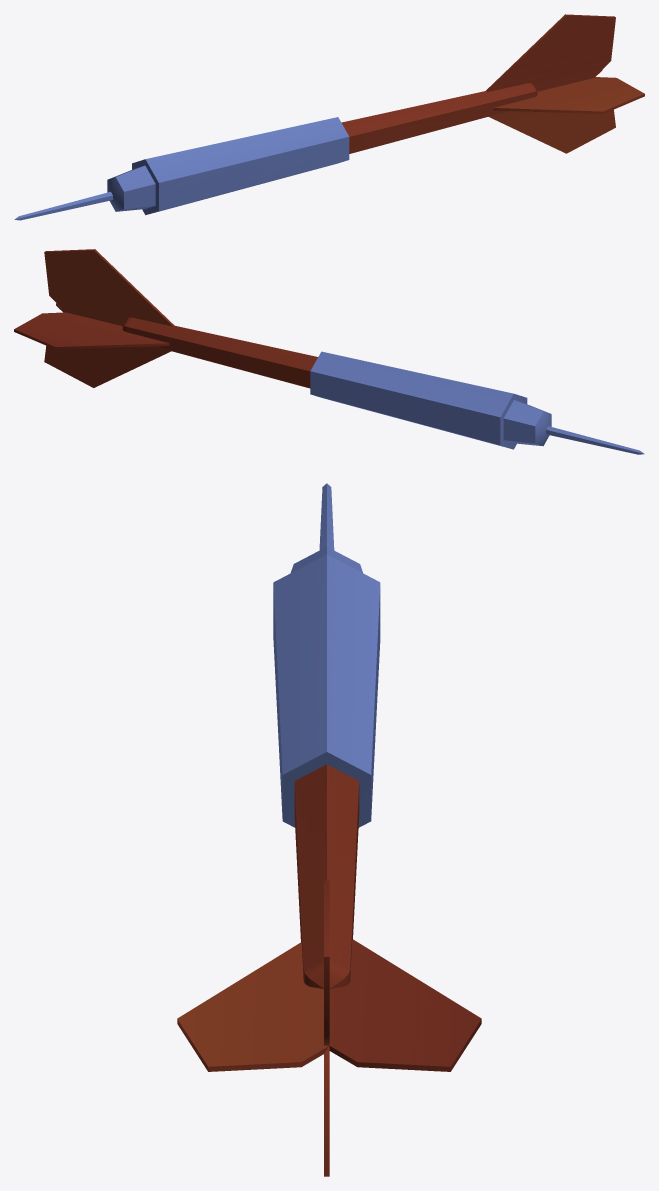
The model's file is MSH_DardoDecorativo.fbx.
The picture shows the model from 3 angles, top to bottom: view 1: azimuth 30°, elevation 25°; view 2: azimuth 150°, elevation 25°; view 3: azimuth 270°, elevation 25°; orthographic projection. The views are drawn at different scales.
Parts seen in each view (by area): view 1: MSH_DardoDecorativo; view 2: MSH_DardoDecorativo; view 3: MSH_DardoDecorativo.
Part boxes in pixels (x1=…): MSH_DardoDecorativo: x1=14, y1=14, x2=644, y2=220; MSH_DardoDecorativo: x1=14, y1=249, x2=644, y2=454; MSH_DardoDecorativo: x1=177, y1=483, x2=481, y2=1176.
Bounding box in the file's own units: 17.64 × 3.88 × 3.88.
